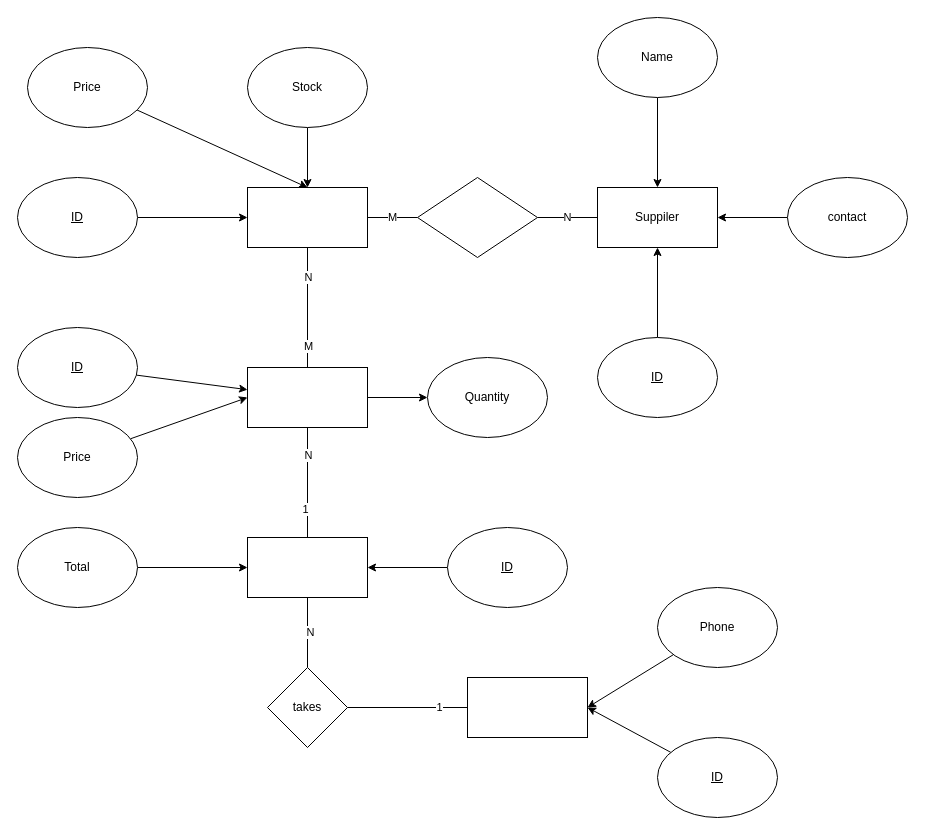
This 925x835 diagram has some shape labels left out. The centre of each missing label's shape, as x and y in pixels:
"Bill" belongs at (307,567).
"Customer" belongs at (527,707).
"OrderItem" belongs at (307,397).
"Product" belongs at (307,217).
"suppiles" belongs at (477,217).
